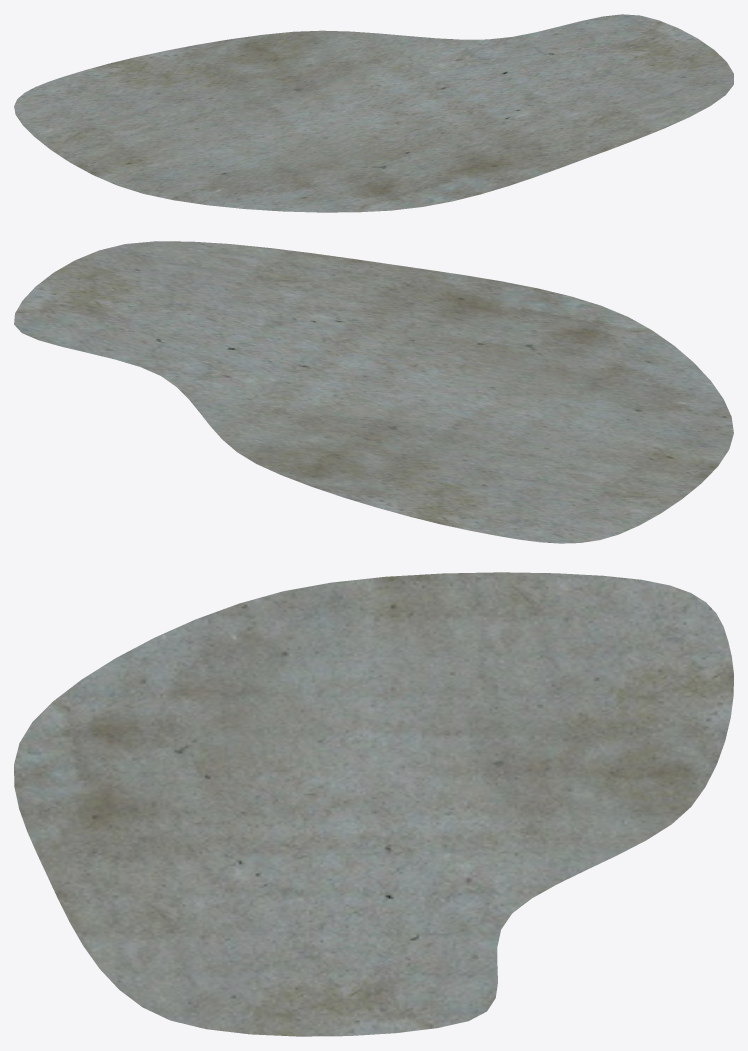
The model's file is stone5.FBX.
3 views of the same model, one above another, from view 1: azimuth 30°, elevation 25°; view 2: azimuth 150°, elevation 25°; view 3: azimuth 270°, elevation 25° (orthographic). The views are drawn at different scales.
Parts seen in each view (by area): view 1: Line02; view 2: Line02; view 3: Line02.
Part boxes in pixels (<box>): Line02: <box>14,14,733,212</box>; Line02: <box>14,241,733,543</box>; Line02: <box>14,572,733,1036</box>.
Bounding box in the file's own units: 64 × 2.57e-15 × 41.95.
1 material, 1 textured.
